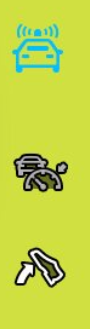ACCELERATOR: (1, 234, 84, 291)
ACC_AKTIV: (7, 142, 74, 195)
SEV_INF: (1, 14, 79, 77)
